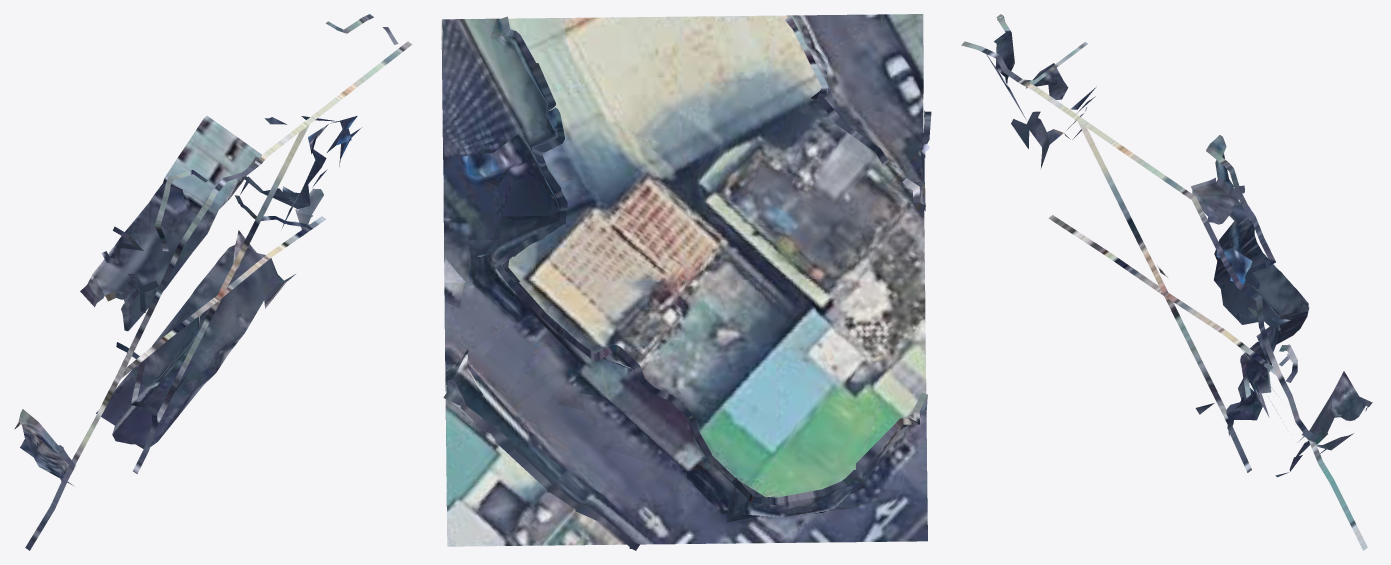
3 views of the same model, side by side, from view 1: azimuth 30°, elevation 25°; view 2: azimuth 150°, elevation 25°; view 3: azimuth 270°, elevation 25° (orthographic). The views are drawn at different scales.
Bounding box in the file's own units: 38.49 × 37.29 × 33.01.
Materials: 2 (2 with a texture image).
